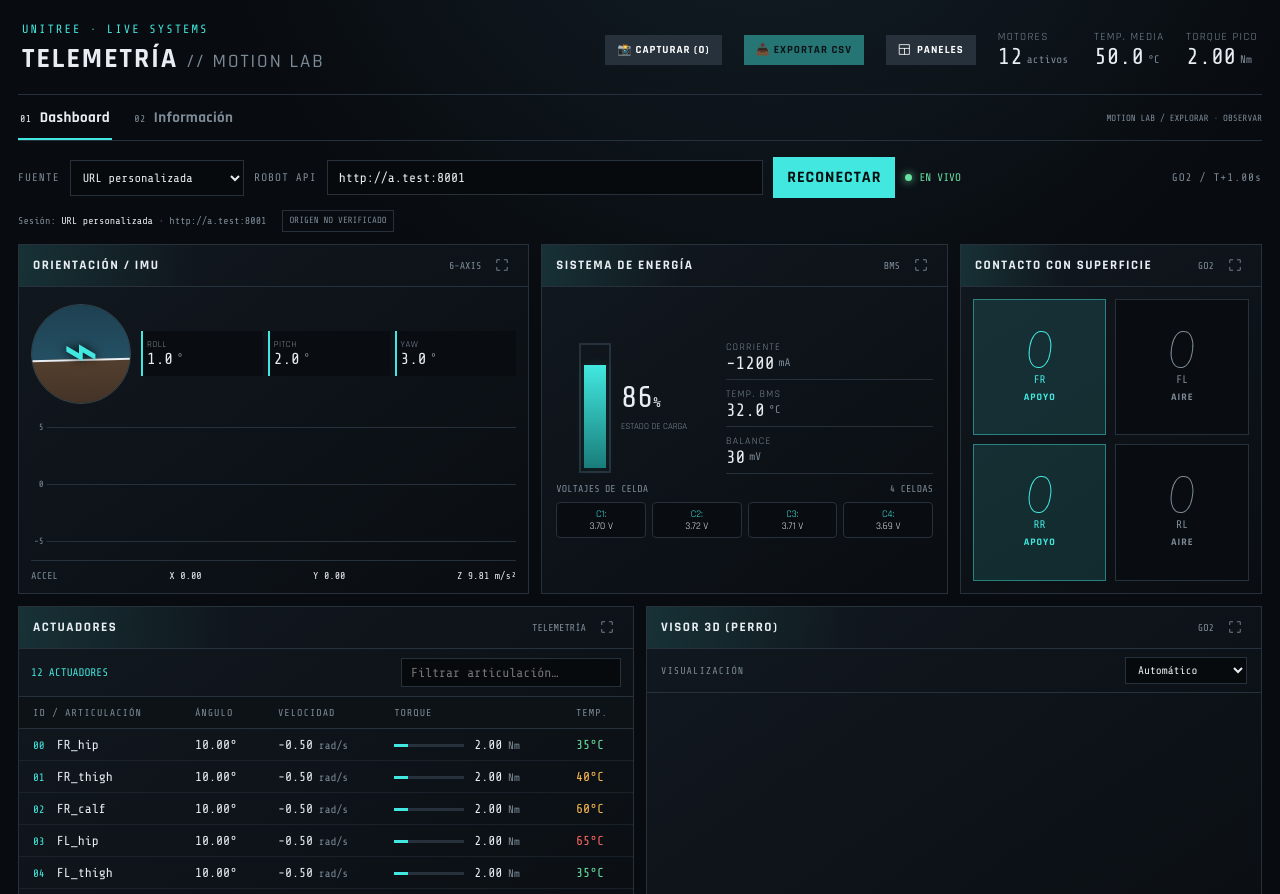
it: an empty profile keeps the current socket and explains one-time configuration
Select "G1 / Humanoide" in the dropdown named "Fuente de telemetría". click: [157, 178]
box: [70,160,244,196]
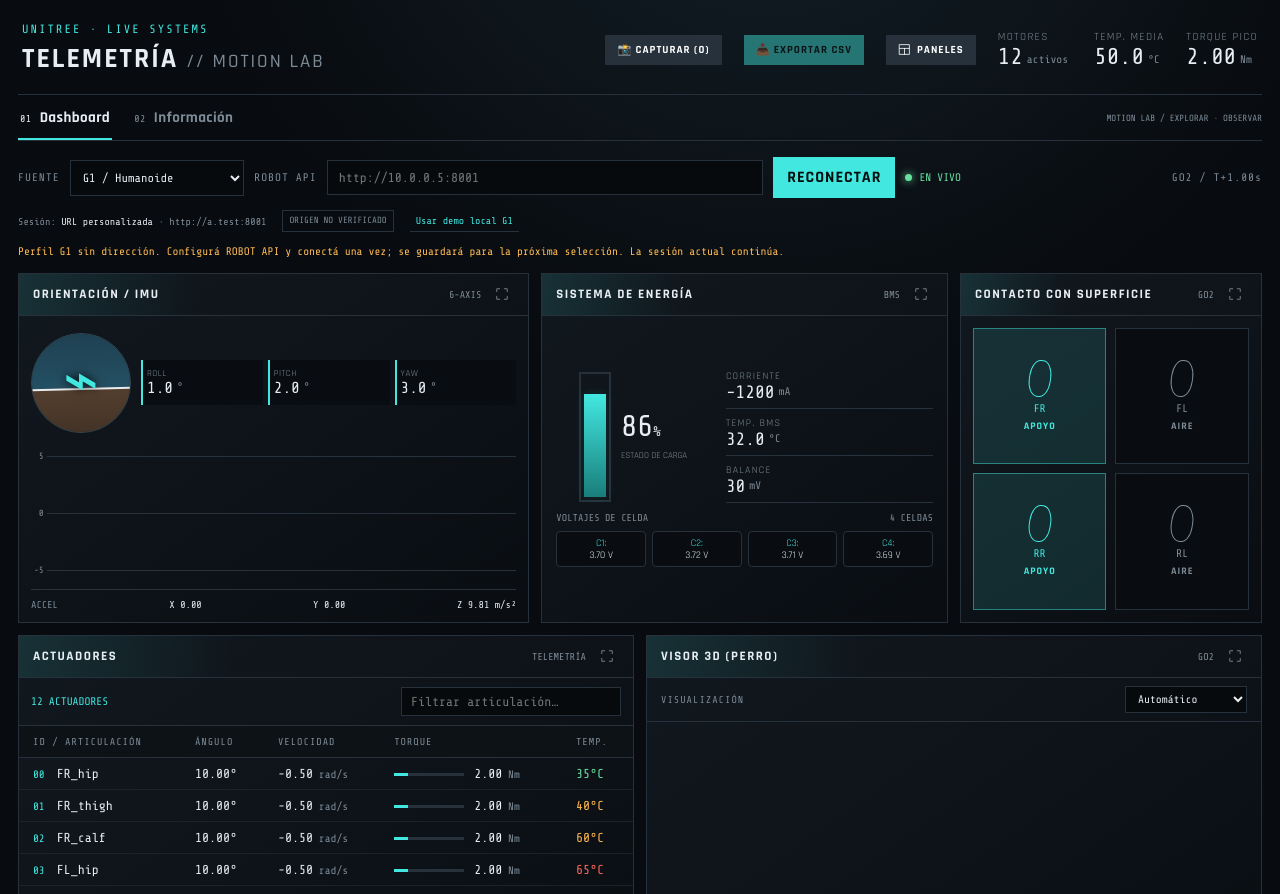
Expected: the text "http://a.test:8001" is shown, [169,216,266,226]
Result: the field labelled "ROBOT API" is empty at [327,160,763,195]
Result: the text "Perfil G1 sin dirección" is shown at [18,245,784,258]
